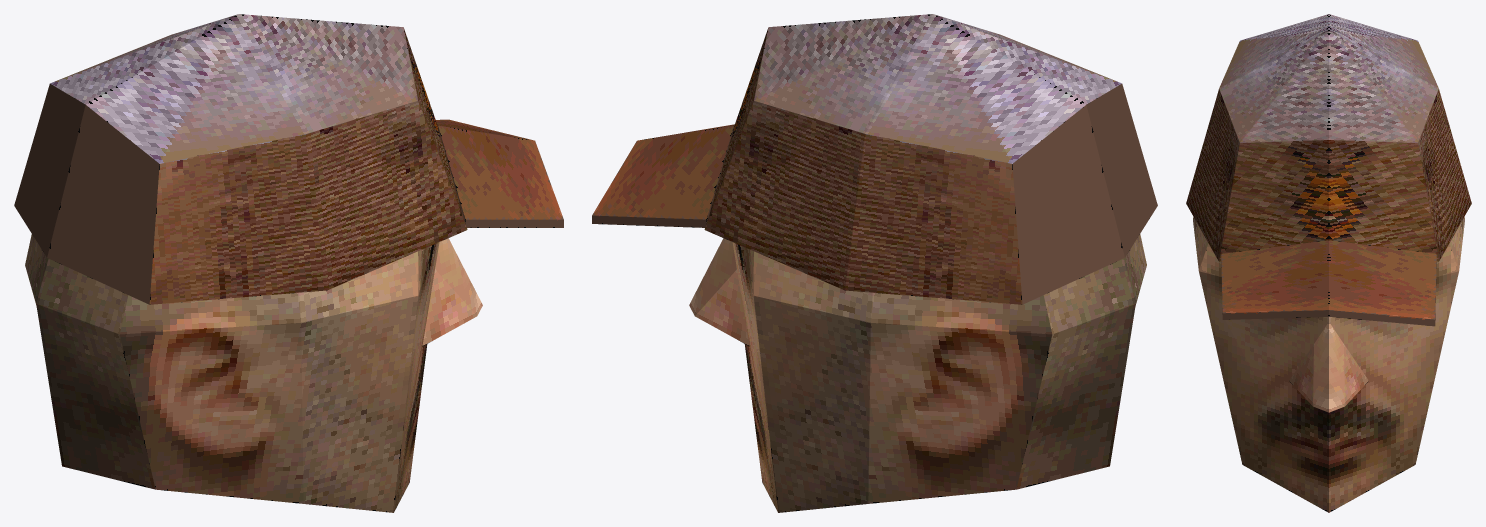
Rendered from model_with_hat.glb.
3 views of the same model, side by side, from view 1: azimuth 30°, elevation 25°; view 2: azimuth 150°, elevation 25°; view 3: azimuth 270°, elevation 25° (orthographic). The views are drawn at different scales.
Parts seen in each view (by area): view 1: Hat; view 2: Hat; view 3: Hat.
Part boxes in pixels (x1,y1,x2,y2): Hat: (14, 14, 563, 512); Hat: (592, 14, 1157, 512); Hat: (1186, 14, 1471, 512).
Bounding box in the file's own units: 2.49 × 2.43 × 1.52.
2 materials, 2 textured.
